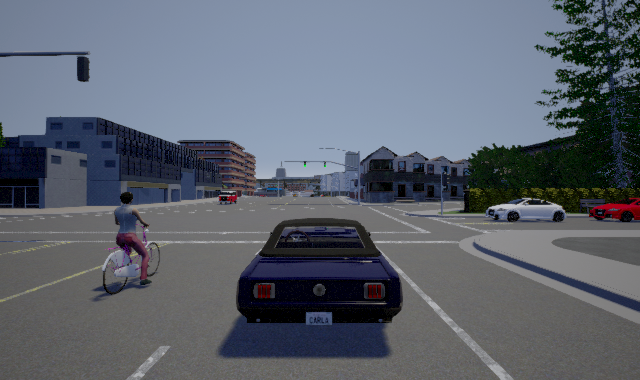bike: (104, 194, 163, 293)
traffic_light: (324, 161, 326, 167), (304, 161, 306, 167)
vehicle: (236, 218, 403, 325), (485, 198, 567, 222), (589, 198, 640, 222), (216, 186, 243, 207)
